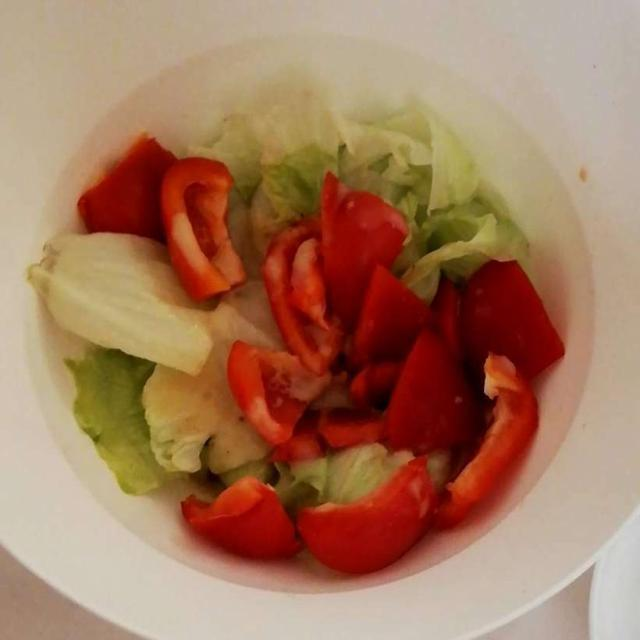salad: (56, 79, 520, 510)
tomato: (72, 135, 544, 543)
